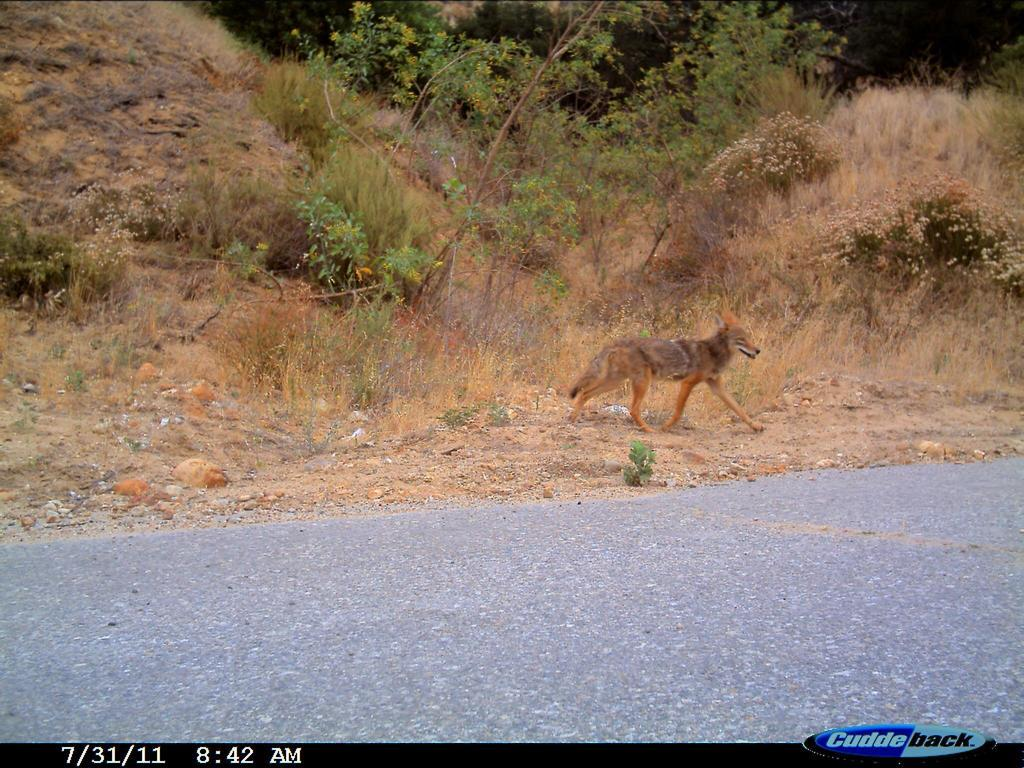coyote: (565, 312, 775, 449)
